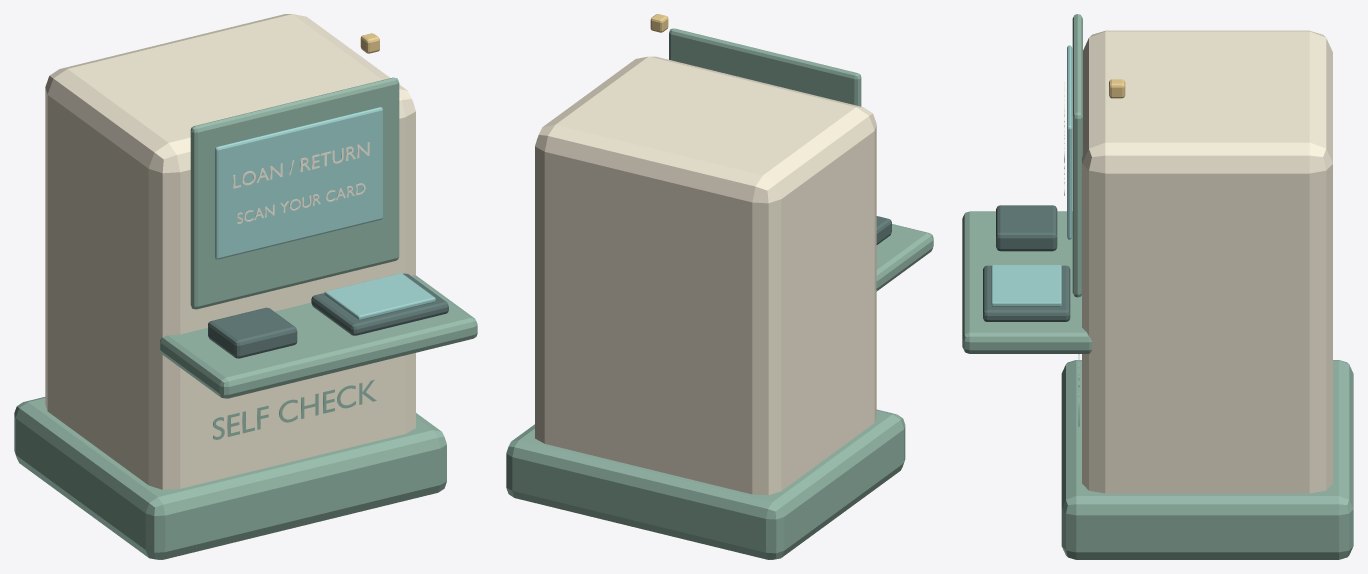
File: kiosk.glb
3 renders of one model, left to right at view 1: azimuth 30°, elevation 25°; view 2: azimuth 150°, elevation 25°; view 3: azimuth 270°, elevation 25°, orthographic. The views are drawn at different scales.
Visible parts, largest first — view 1: kiosk; view 2: kiosk; view 3: kiosk.
Part boxes in pixels (x1,y1,x2,y2): kiosk: (14, 14, 477, 559); kiosk: (506, 14, 933, 559); kiosk: (962, 14, 1353, 559).
Size of the model in its own units: 1.2 by 1.73 by 1.34.
